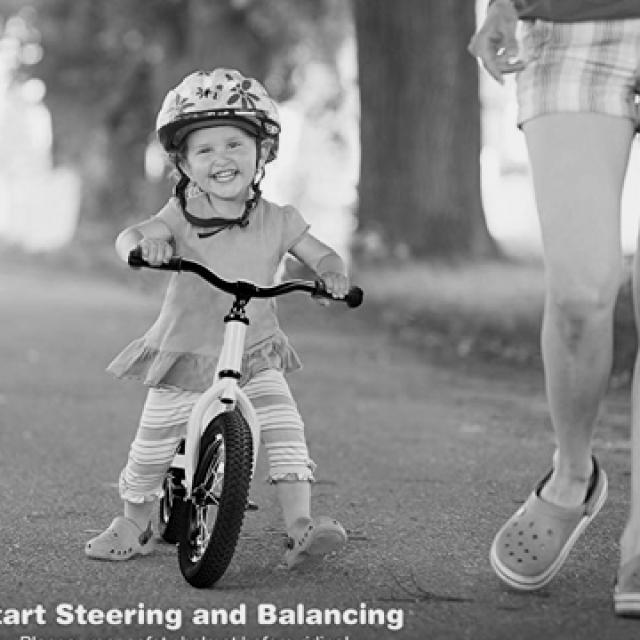Helmet: (150, 51, 292, 202)
